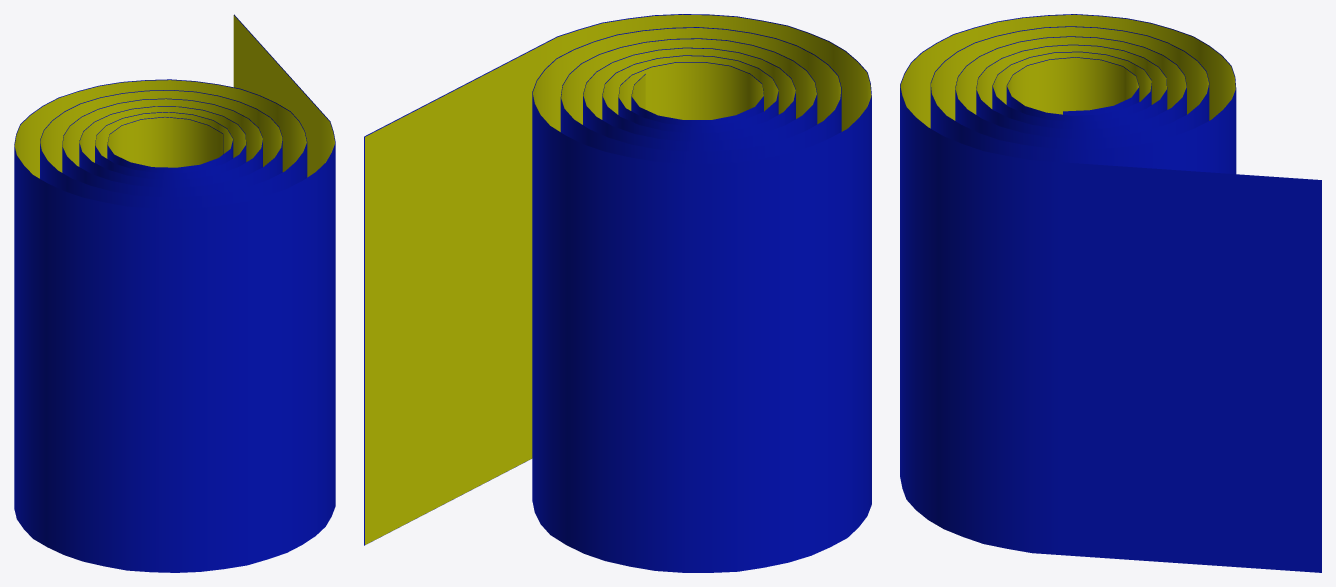
Rendered from Amplas.fbx.
3 views of the same model, side by side, from view 1: azimuth 30°, elevation 25°; view 2: azimuth 150°, elevation 25°; view 3: azimuth 270°, elevation 25° (orthographic). The views are drawn at different scales.
Visible parts, largest first — view 1: Amplas; view 2: Amplas; view 3: Amplas.
Boxes of the visible parts, left/top/right/bottom form: Amplas: left=14, top=14, right=335, bottom=572; Amplas: left=364, top=14, right=871, bottom=572; Amplas: left=900, top=14, right=1321, bottom=572.
Size of the model in its own units: 9.07 by 10.01 by 9.73.
